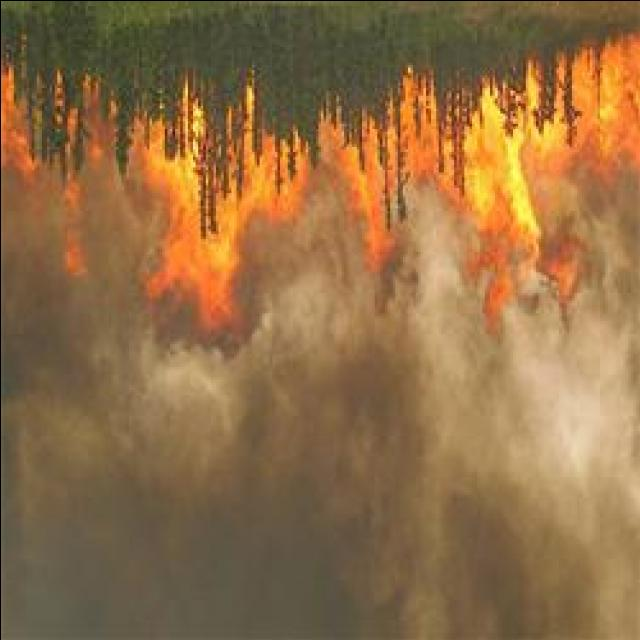fire: (468, 136, 524, 206), (604, 38, 638, 136), (188, 238, 236, 280), (158, 166, 194, 208), (0, 74, 13, 154), (476, 104, 506, 136)
smoke: (0, 415, 121, 633), (434, 482, 602, 638), (232, 357, 429, 489), (294, 471, 425, 640), (564, 348, 638, 636), (0, 295, 115, 440), (88, 368, 200, 512), (0, 193, 60, 330), (592, 192, 640, 328)
